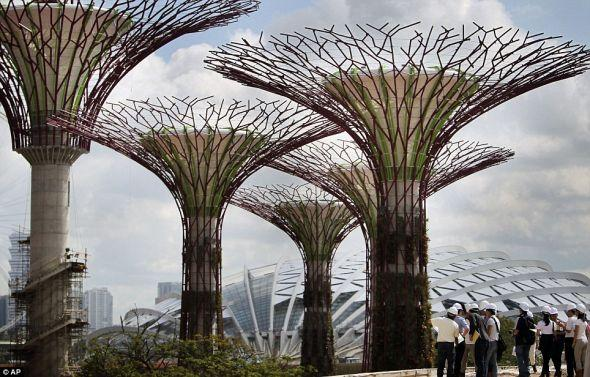helmet: (467, 304, 480, 312), (480, 301, 490, 311), (519, 303, 530, 312), (567, 304, 578, 313), (448, 308, 459, 316), (486, 305, 498, 312), (578, 305, 587, 314), (542, 307, 552, 315), (551, 308, 560, 316), (454, 304, 464, 311)
